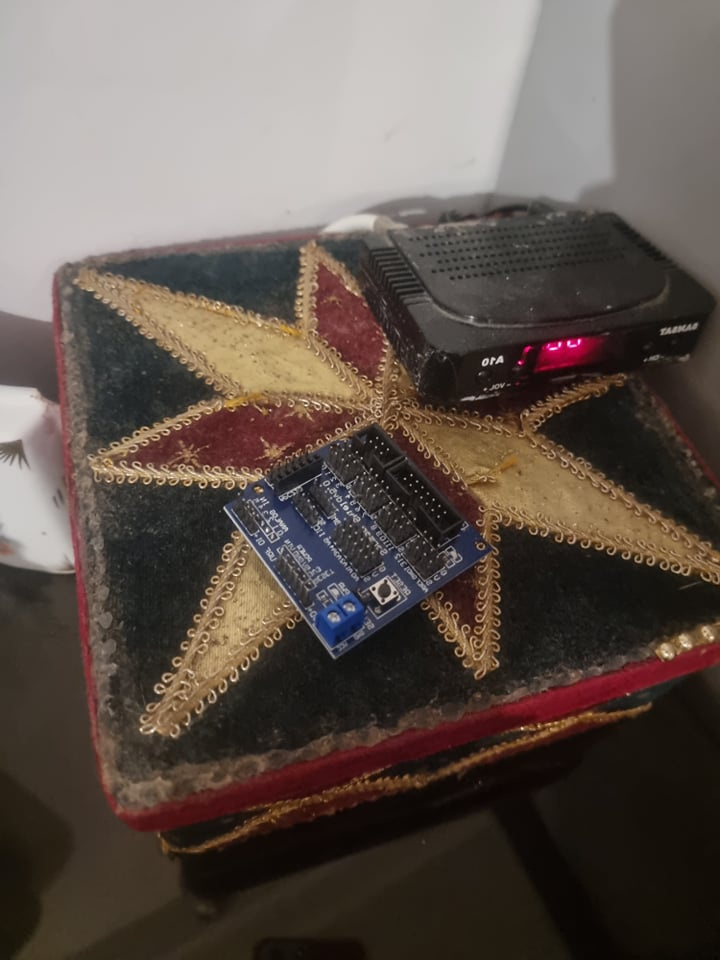5V EXPANSION: (223, 427, 492, 661)
